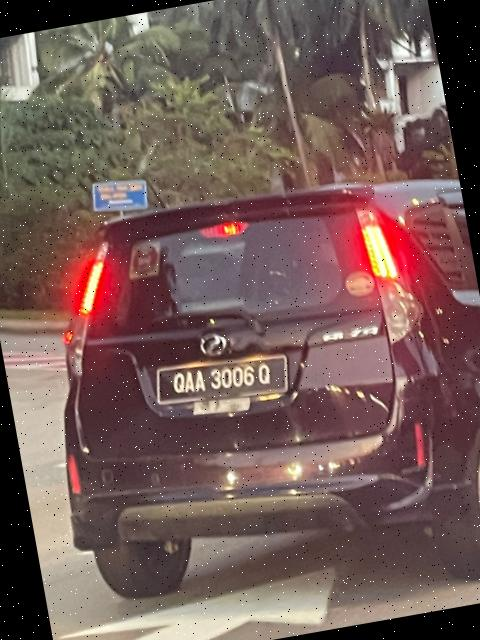License_Plate: (161, 350, 285, 415)
car: (4, 143, 480, 640)
